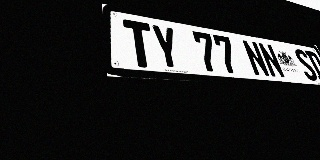7: (190, 31, 223, 74), (211, 34, 242, 75)
D: (304, 50, 320, 82)
N: (241, 39, 271, 77), (257, 42, 286, 79)
S: (292, 48, 320, 81)
T: (123, 19, 157, 68)
Y: (150, 24, 183, 71)
